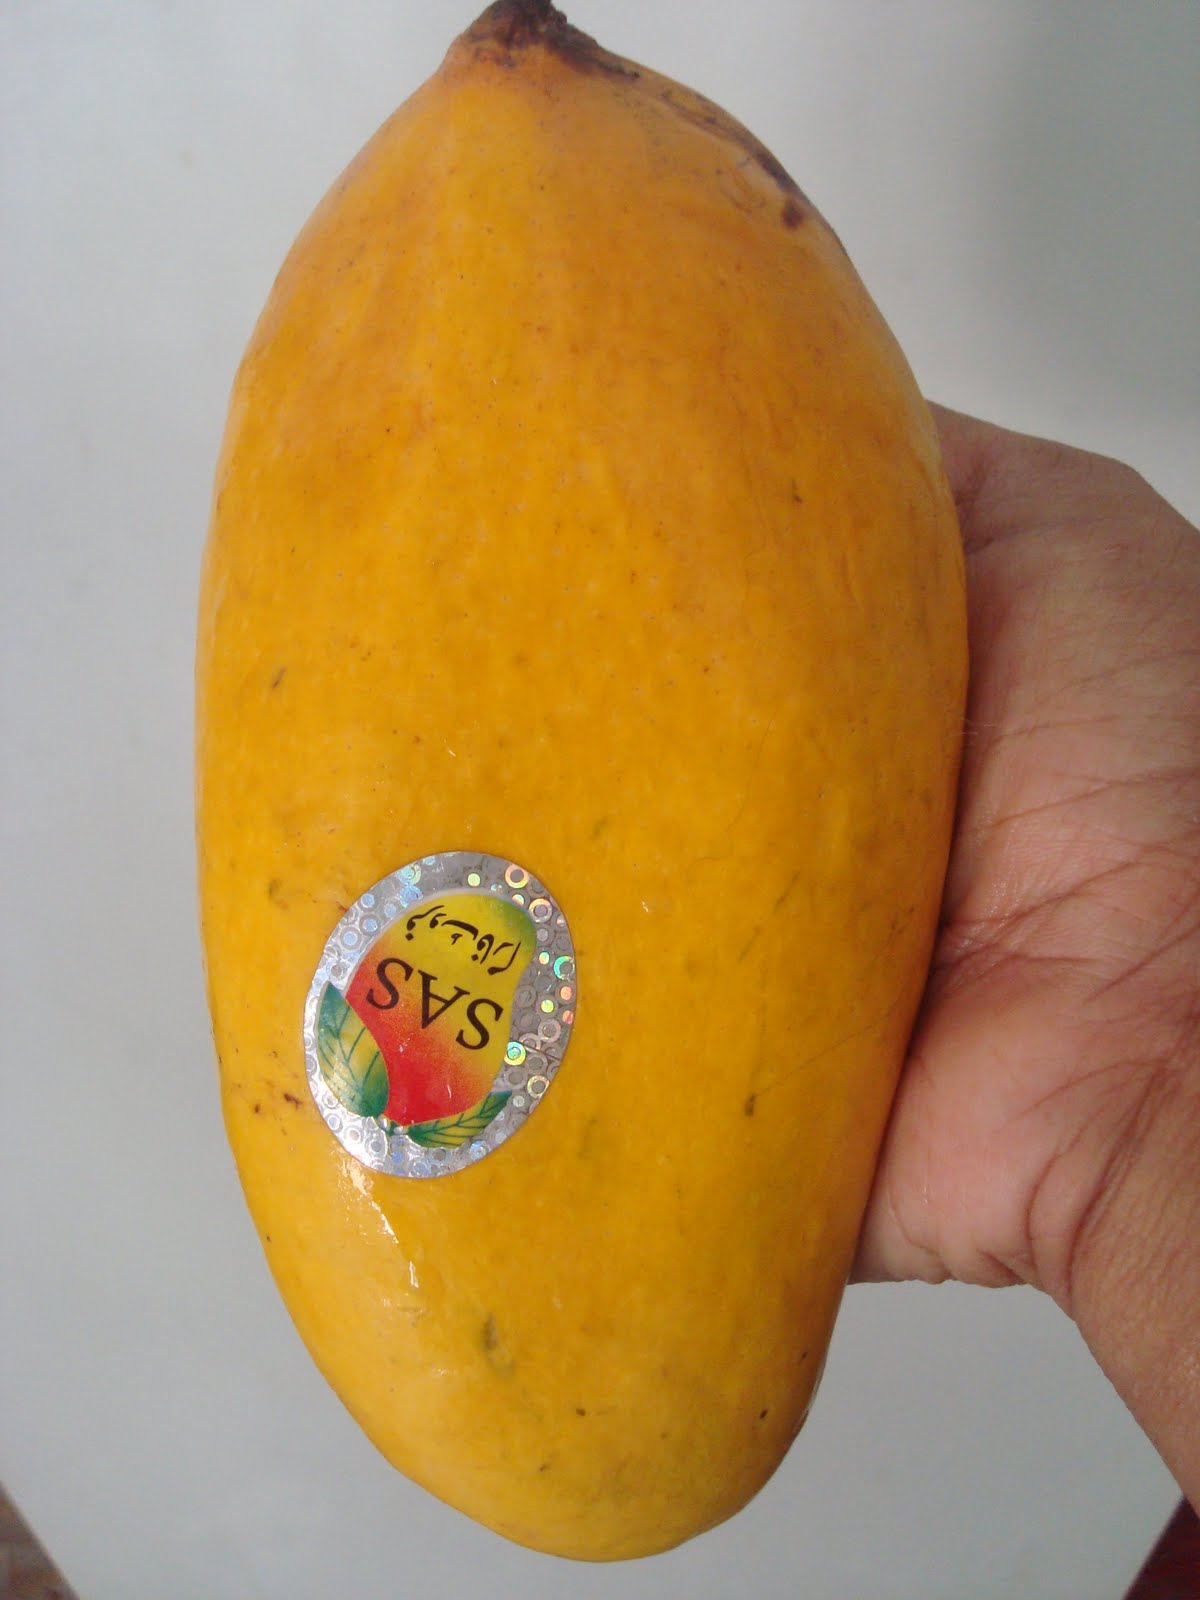mango: (110, 6, 987, 1557)
